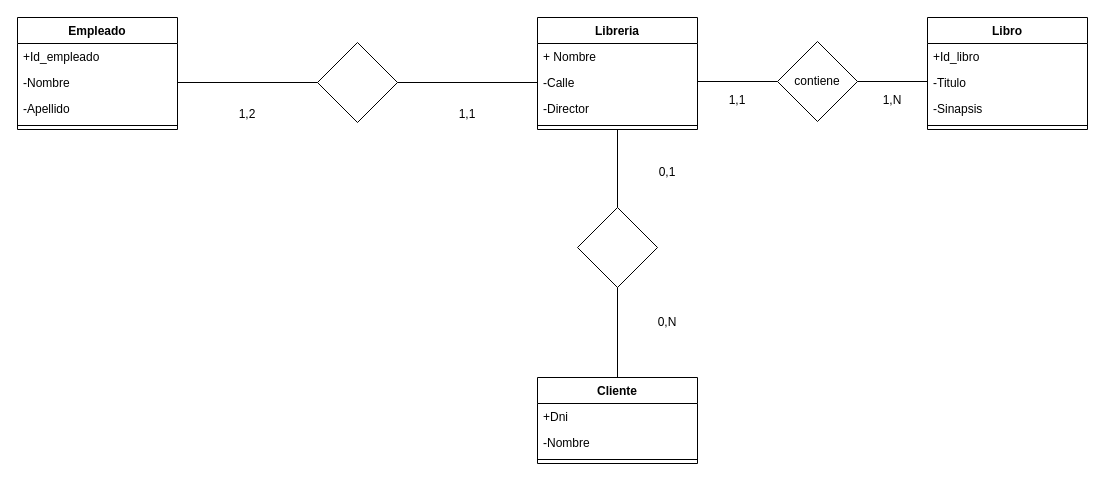
Image size: 1105x481. Some labels were removed from this diagram. The shapes that lost their labels are listed below. From the top down, each one's centre as x and y in pixels, then its label:
At (357,82): "trabaja".
At (617,247): "Atiende".
